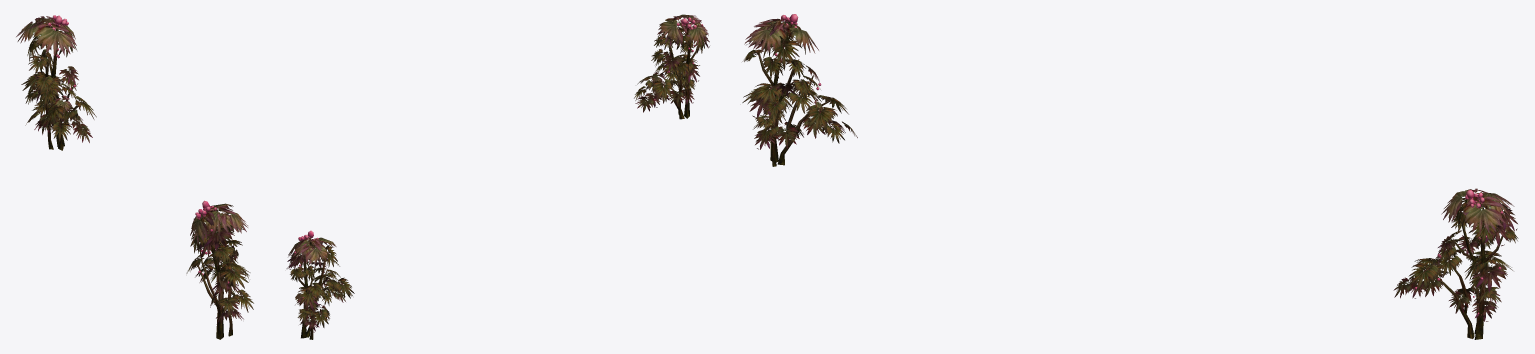
Rendered from S_Plant_Yellow016_1.FBX.
3 renders of one model, left to right at view 1: azimuth 30°, elevation 25°; view 2: azimuth 150°, elevation 25°; view 3: azimuth 270°, elevation 25°, orthographic. The views are drawn at different scales.
Visible parts, largest first — view 1: S_Plant_Yellow016_002, S_Plant_Yellow016_001; view 2: S_Plant_Yellow016_001, S_Plant_Yellow016_002; view 3: S_Plant_Yellow016_002, S_Plant_Yellow016_001.
Part boxes in pixels (box(x1,y1,x2,y2)): S_Plant_Yellow016_002: box(16, 15, 96, 150); S_Plant_Yellow016_001: box(186, 200, 253, 339); S_Plant_Yellow016_001: box(634, 14, 709, 119); S_Plant_Yellow016_002: box(286, 230, 354, 339); S_Plant_Yellow016_002: box(1393, 188, 1518, 339); S_Plant_Yellow016_001: box(742, 14, 857, 166).
Size of the model in its own units: 1470 by 4445 by 1478.
